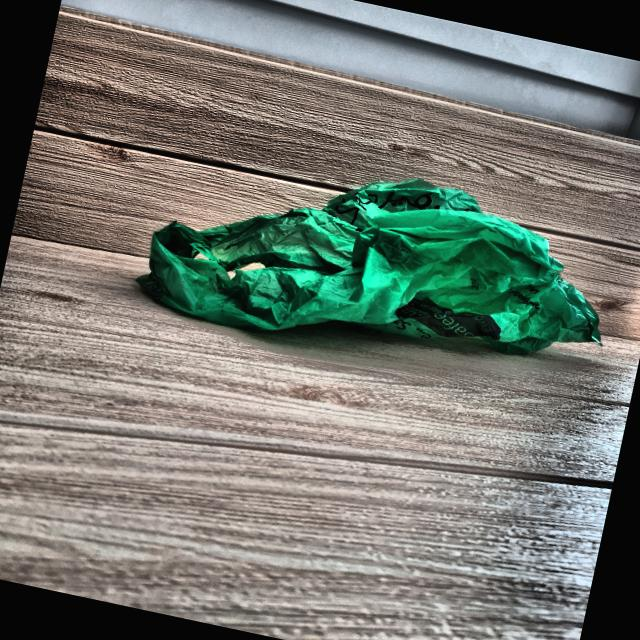plastic bag: (133, 132, 630, 410)
